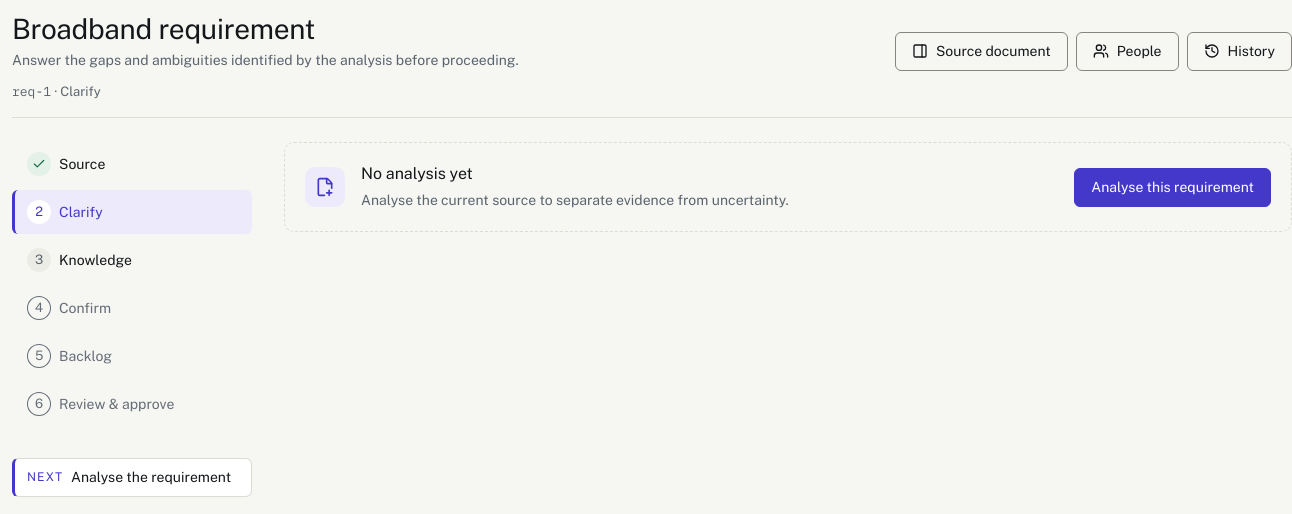
it: Requirement workspace reads › reloads the Requirement when the analysis start is refused as changed
Step 1. Click the button "Analyse this requirement" → (1173, 187), box [1074, 168, 1271, 207]
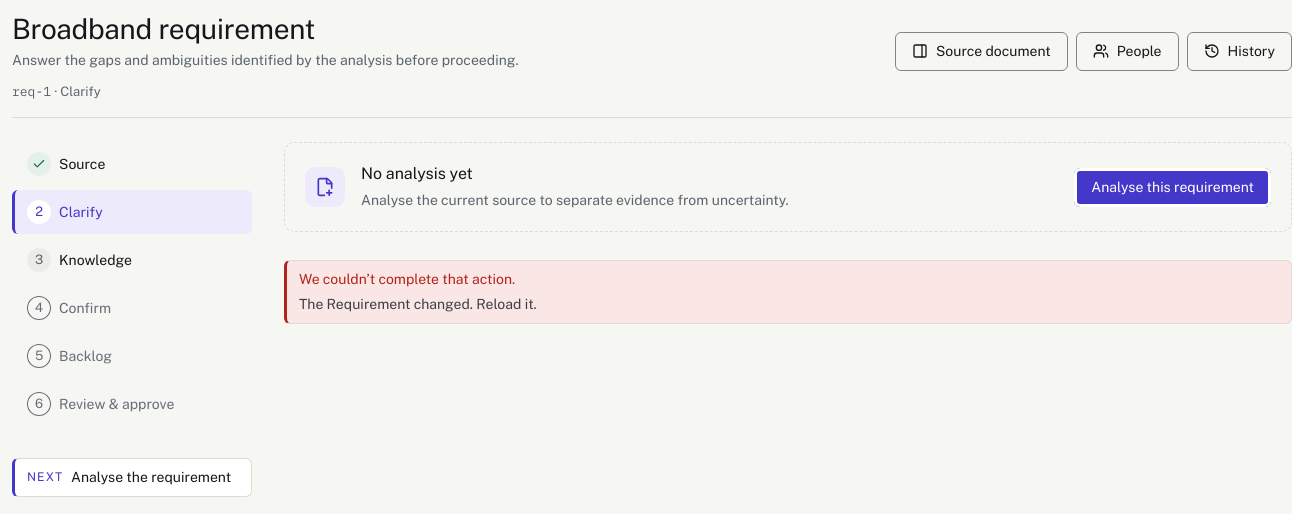
Now the text "The Requirement changed. Reload it." is shown, box [299, 296, 537, 312]
